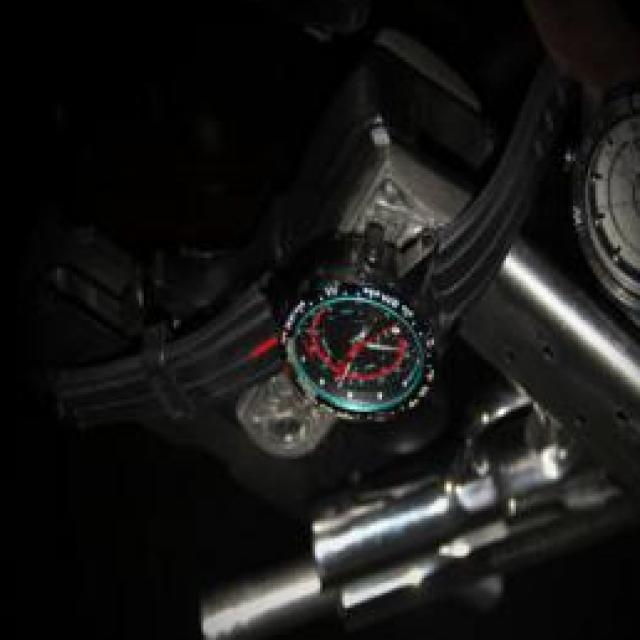pistol: (15, 22, 511, 618), (201, 265, 640, 640)
